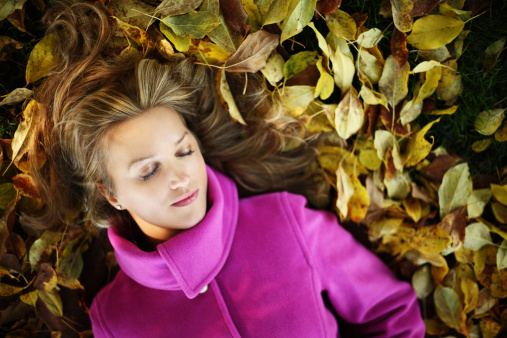deitado: (30, 46, 412, 338)
